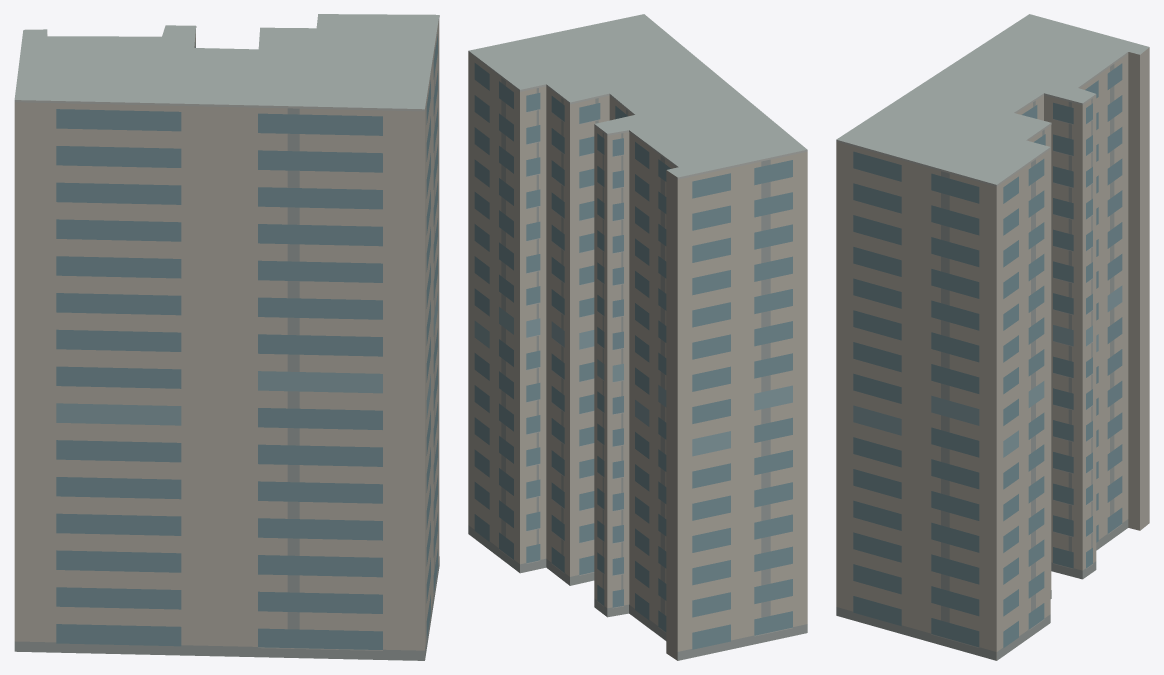
The model's file is residential-caea7a7b-6eff-4560-912d-cdb5f0b8d8a1.glb.
3 renders of one model, left to right at view 1: azimuth 30°, elevation 25°; view 2: azimuth 150°, elevation 25°; view 3: azimuth 270°, elevation 25°, orthographic. The views are drawn at different scales.
Parts seen in each view (by area): view 1: residential-caea7a7b-6eff-4560-912d-cdb5f0b8d8a1.tmp; view 2: residential-caea7a7b-6eff-4560-912d-cdb5f0b8d8a1.tmp; view 3: residential-caea7a7b-6eff-4560-912d-cdb5f0b8d8a1.tmp.
Part boxes in pixels (x1,y1,x2,y2): residential-caea7a7b-6eff-4560-912d-cdb5f0b8d8a1.tmp: (14,14,439,660); residential-caea7a7b-6eff-4560-912d-cdb5f0b8d8a1.tmp: (468,14,807,660); residential-caea7a7b-6eff-4560-912d-cdb5f0b8d8a1.tmp: (836,14,1149,660).
Bounding box in the file's own units: 46.21 × 60 × 35.83.
